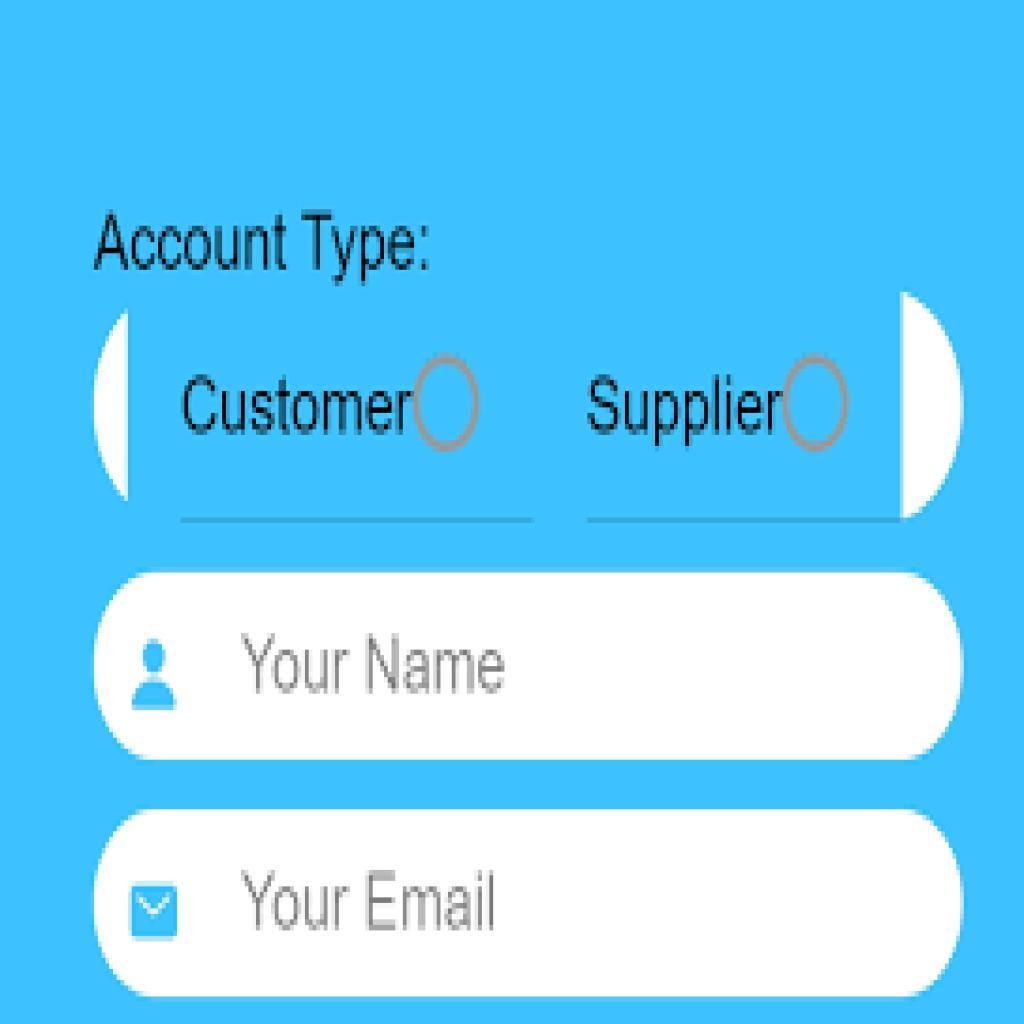icon: (122, 608, 206, 738), (126, 854, 202, 967)
input: (91, 569, 975, 759), (92, 805, 965, 996)
radio: (782, 351, 851, 458), (411, 355, 483, 455)
